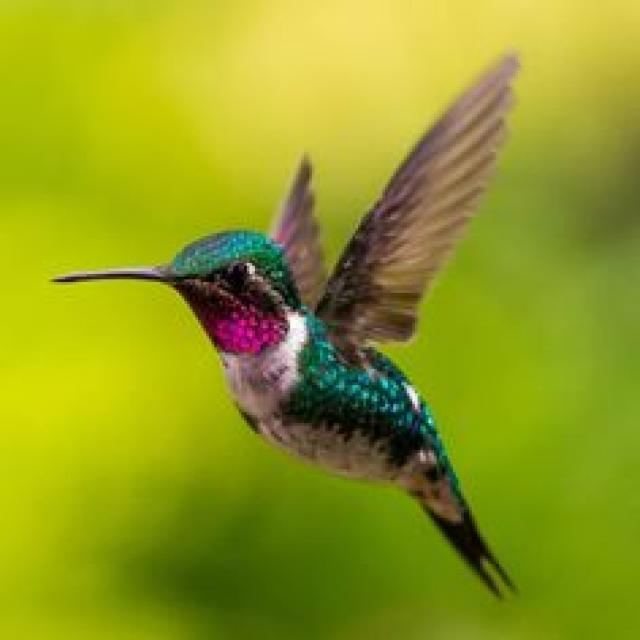Herbivorous: (52, 52, 521, 602)
